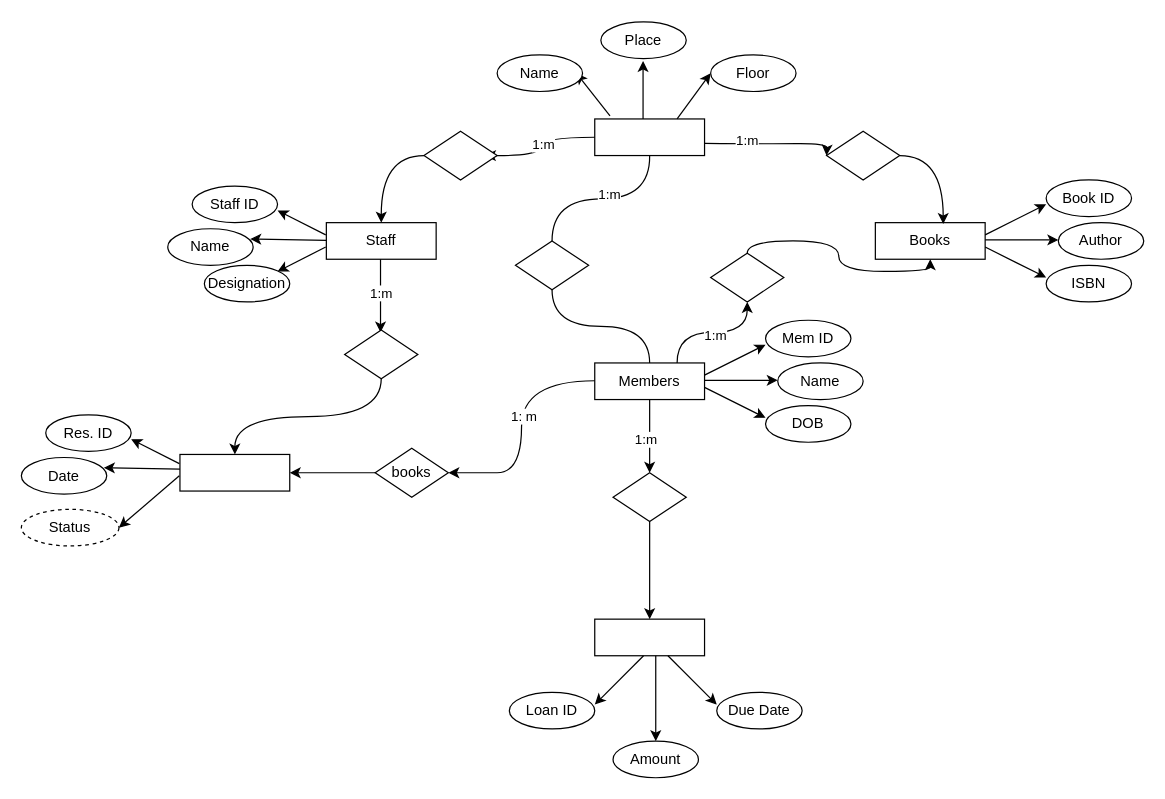
This 1165x799 diagram has some shape labels left out. The centre of each missing label's shape, as x and y in pixels:
employ: (460,155)
has: (551,265)
issues: (746,277)
keeps: (862,155)
Library: (649,137)
Loan: (649,637)
manages: (380,354)
reservation: (234,472)
takes: (649,497)
